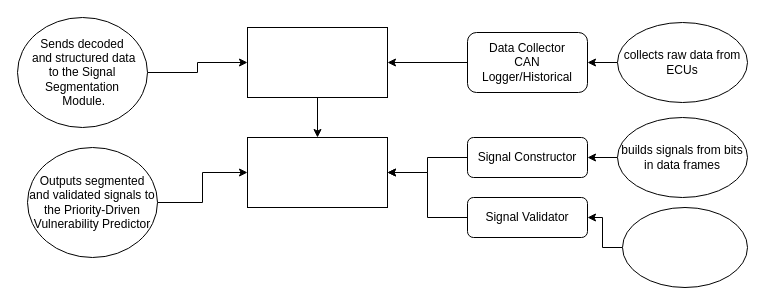
The diagram is 765 pixels wide and 305 high, and some of its shapes have lost their labels. The shapes that lost their labels are listed below. From the top down, each one's box as (x1, y1, x2, y2) in pixels, then its label:
(246, 26, 388, 98): Automated Reverse Engineering Module
(246, 136, 388, 208): Signal Segmentation Module
(622, 206, 748, 288): validates the constructed signals
